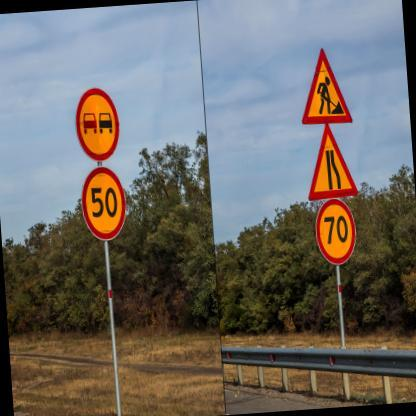road_sign: (302, 49, 351, 124), (309, 126, 356, 199), (82, 167, 125, 240), (76, 88, 118, 159), (316, 199, 355, 264)
